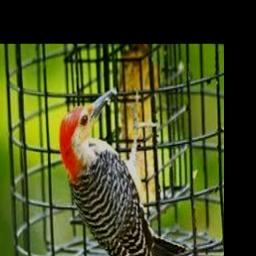Woodpecker: (59, 86, 189, 256)
